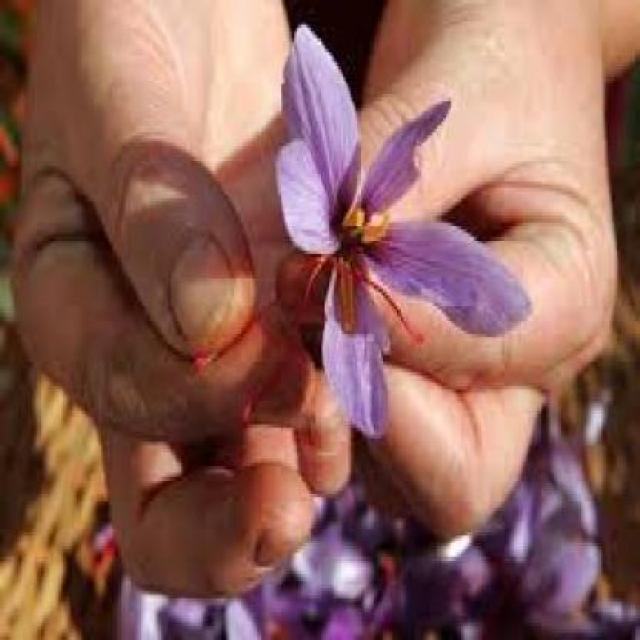Flower: (278, 21, 533, 436)
stigma: (357, 271, 423, 350)
